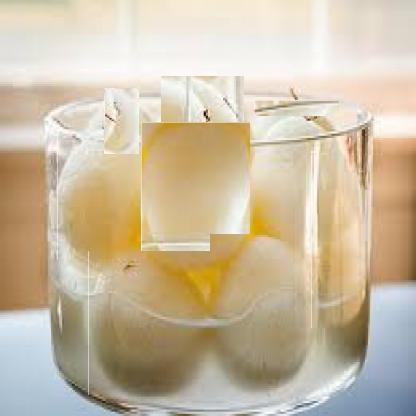rasgulla: (88, 251, 213, 395), (210, 234, 316, 388), (141, 122, 252, 265), (250, 116, 352, 248), (57, 128, 156, 260), (154, 82, 250, 178), (311, 214, 366, 328), (254, 100, 339, 145), (95, 96, 147, 146)
